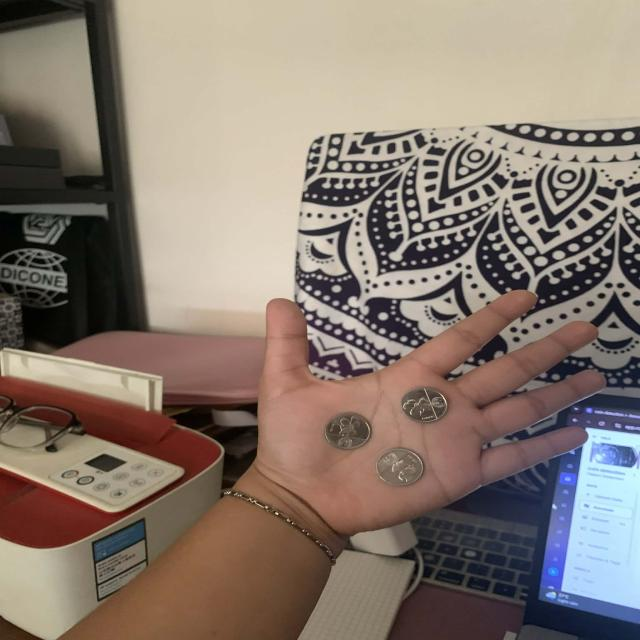25 cents: (323, 409, 374, 452), (396, 385, 451, 424), (376, 446, 425, 488)
